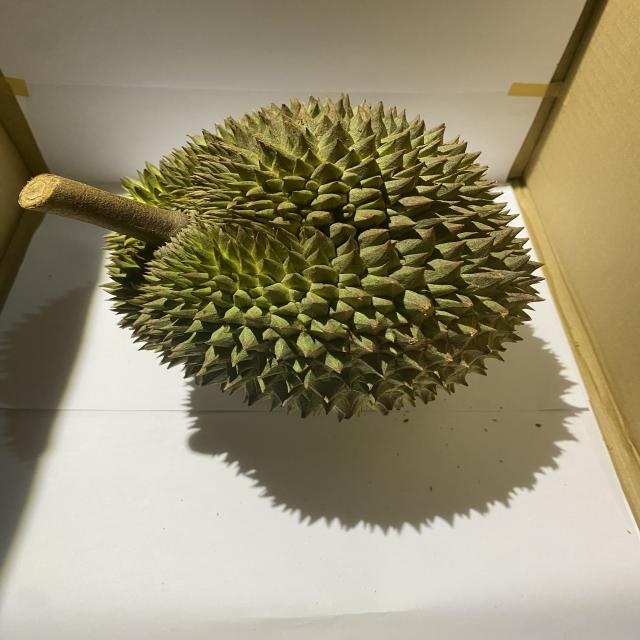immature: (99, 96, 549, 424)
